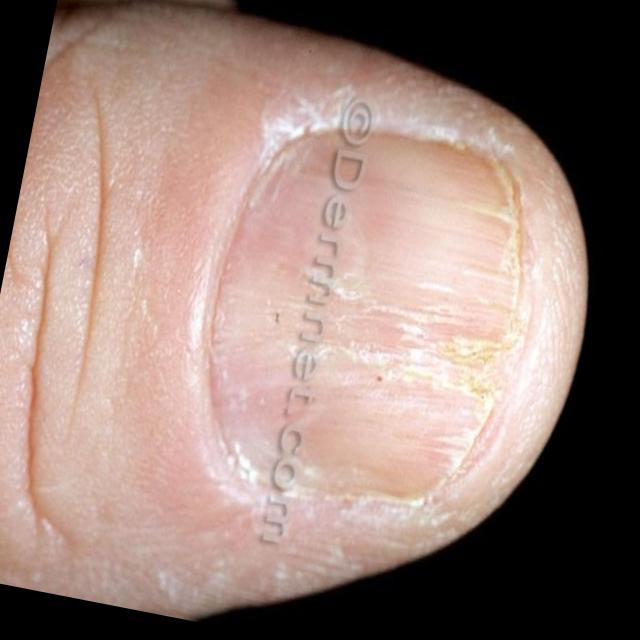Nail: (202, 134, 521, 501)
